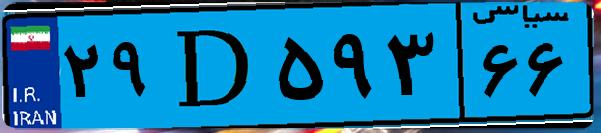2: (57, 26, 110, 100)
3: (385, 28, 445, 110)
5: (270, 28, 330, 110)
6: (475, 38, 525, 113), (525, 38, 570, 115)
9: (330, 28, 385, 110), (110, 28, 158, 98)
D: (158, 12, 270, 120)
